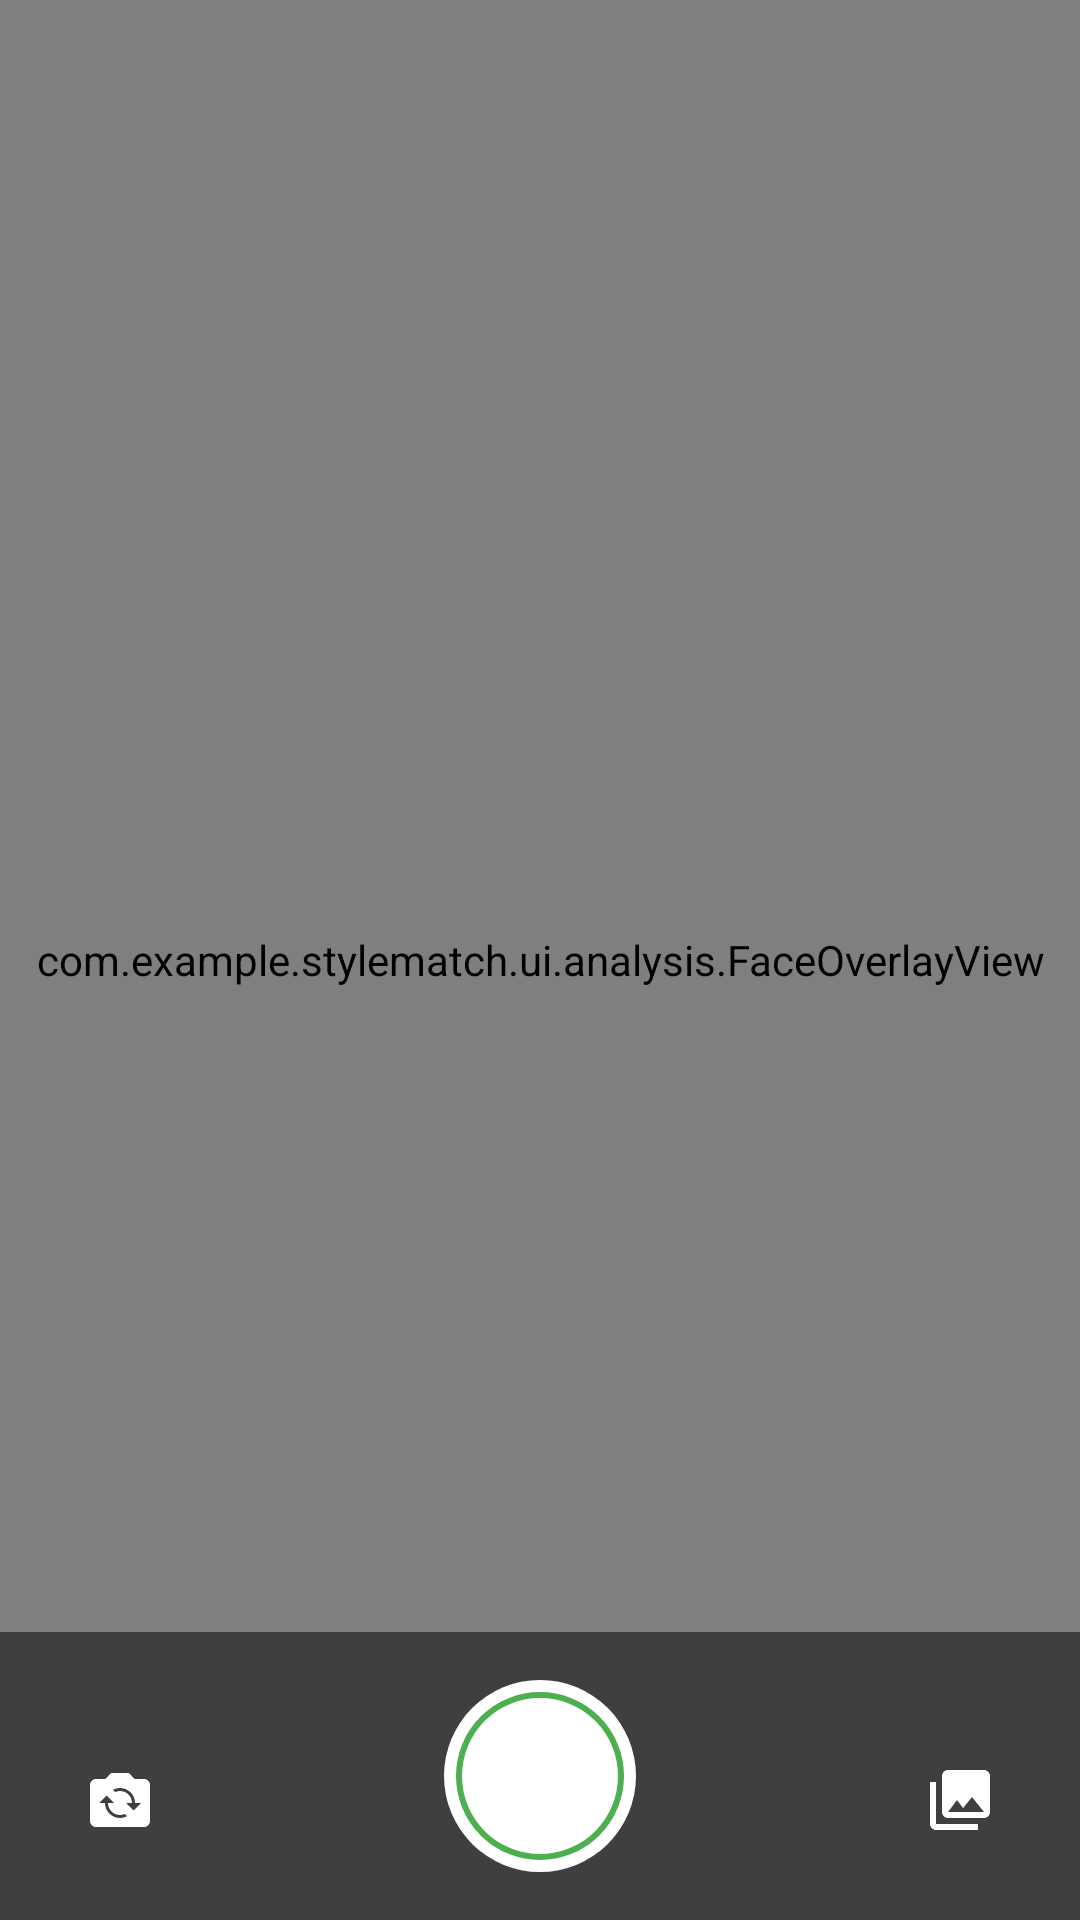

Icons on this 1080 x 1920 Android screen, each with the point to tap as [x,y]:
Abrir galería: [960,1800]
Cambiar cámara: [120,1800]
